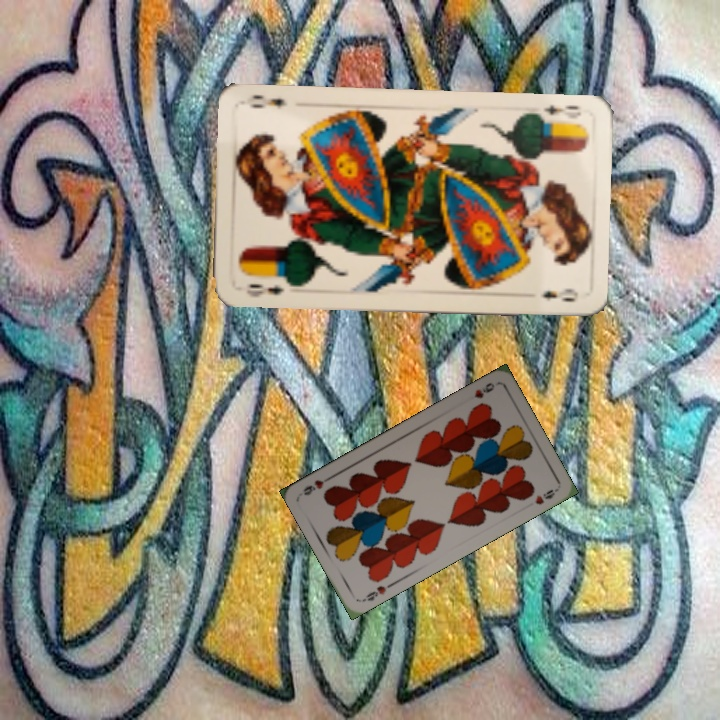EO: (530, 101, 584, 125), (242, 279, 287, 299)
H9: (358, 579, 395, 604), (470, 378, 497, 401)
